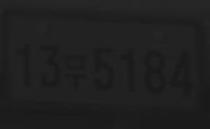1: (118, 48, 142, 93), (14, 42, 34, 87)
3: (37, 44, 60, 88)
4: (168, 51, 195, 95)
5: (92, 45, 114, 91)
8: (144, 50, 167, 94)
무: (64, 54, 88, 90)
